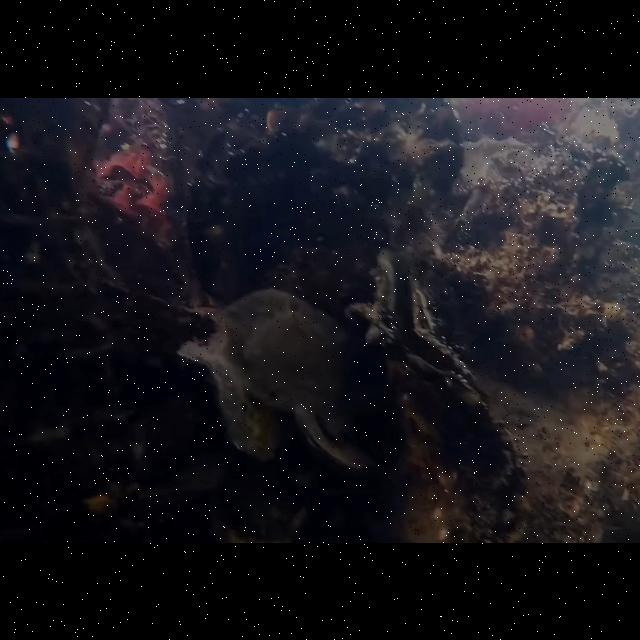Oyster-Closed: (218, 288, 382, 467)
Oyster-Open: (360, 249, 492, 417)
